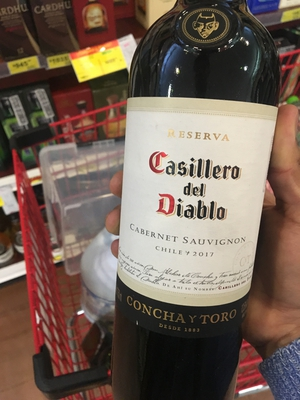casillero del diablo cabernet sauvignon: (115, 7, 273, 400)
